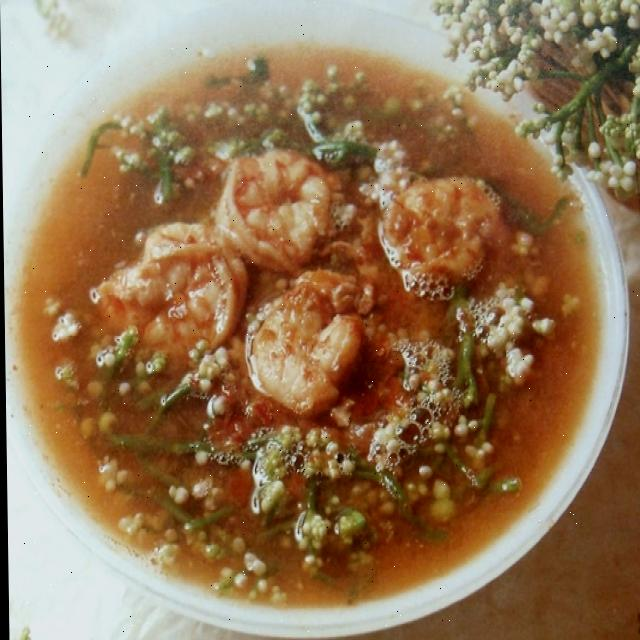汤锅炖物: (11, 39, 604, 616)
